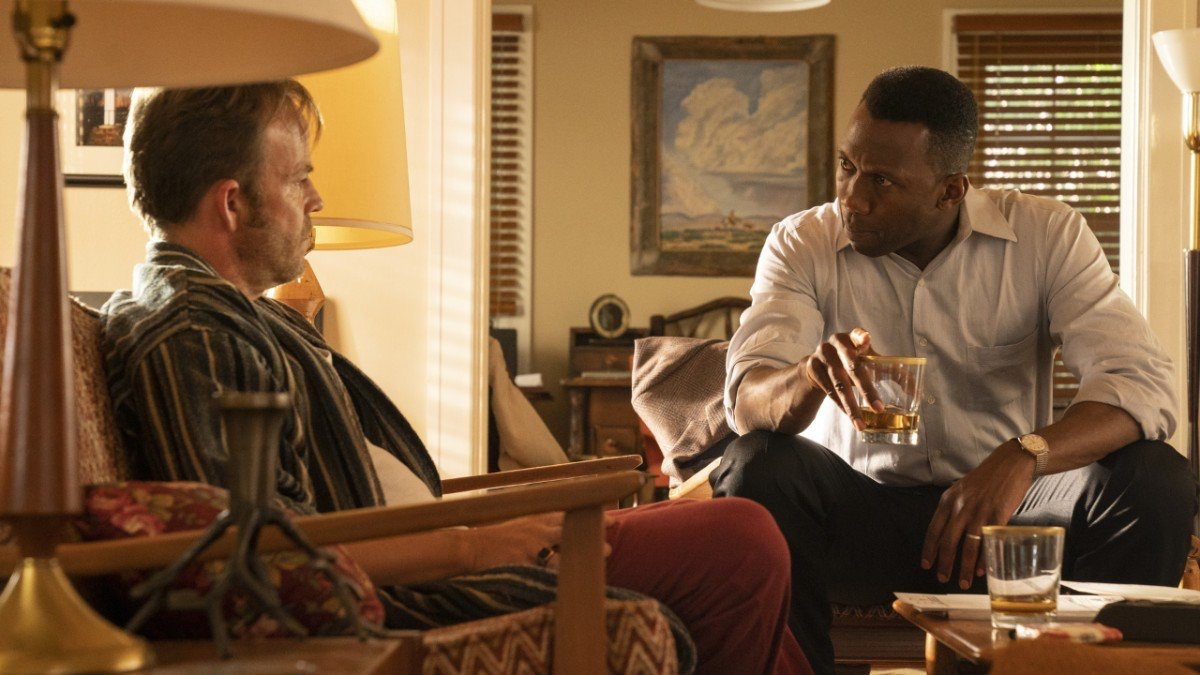person: (112, 78, 798, 639), (724, 68, 1200, 612)
